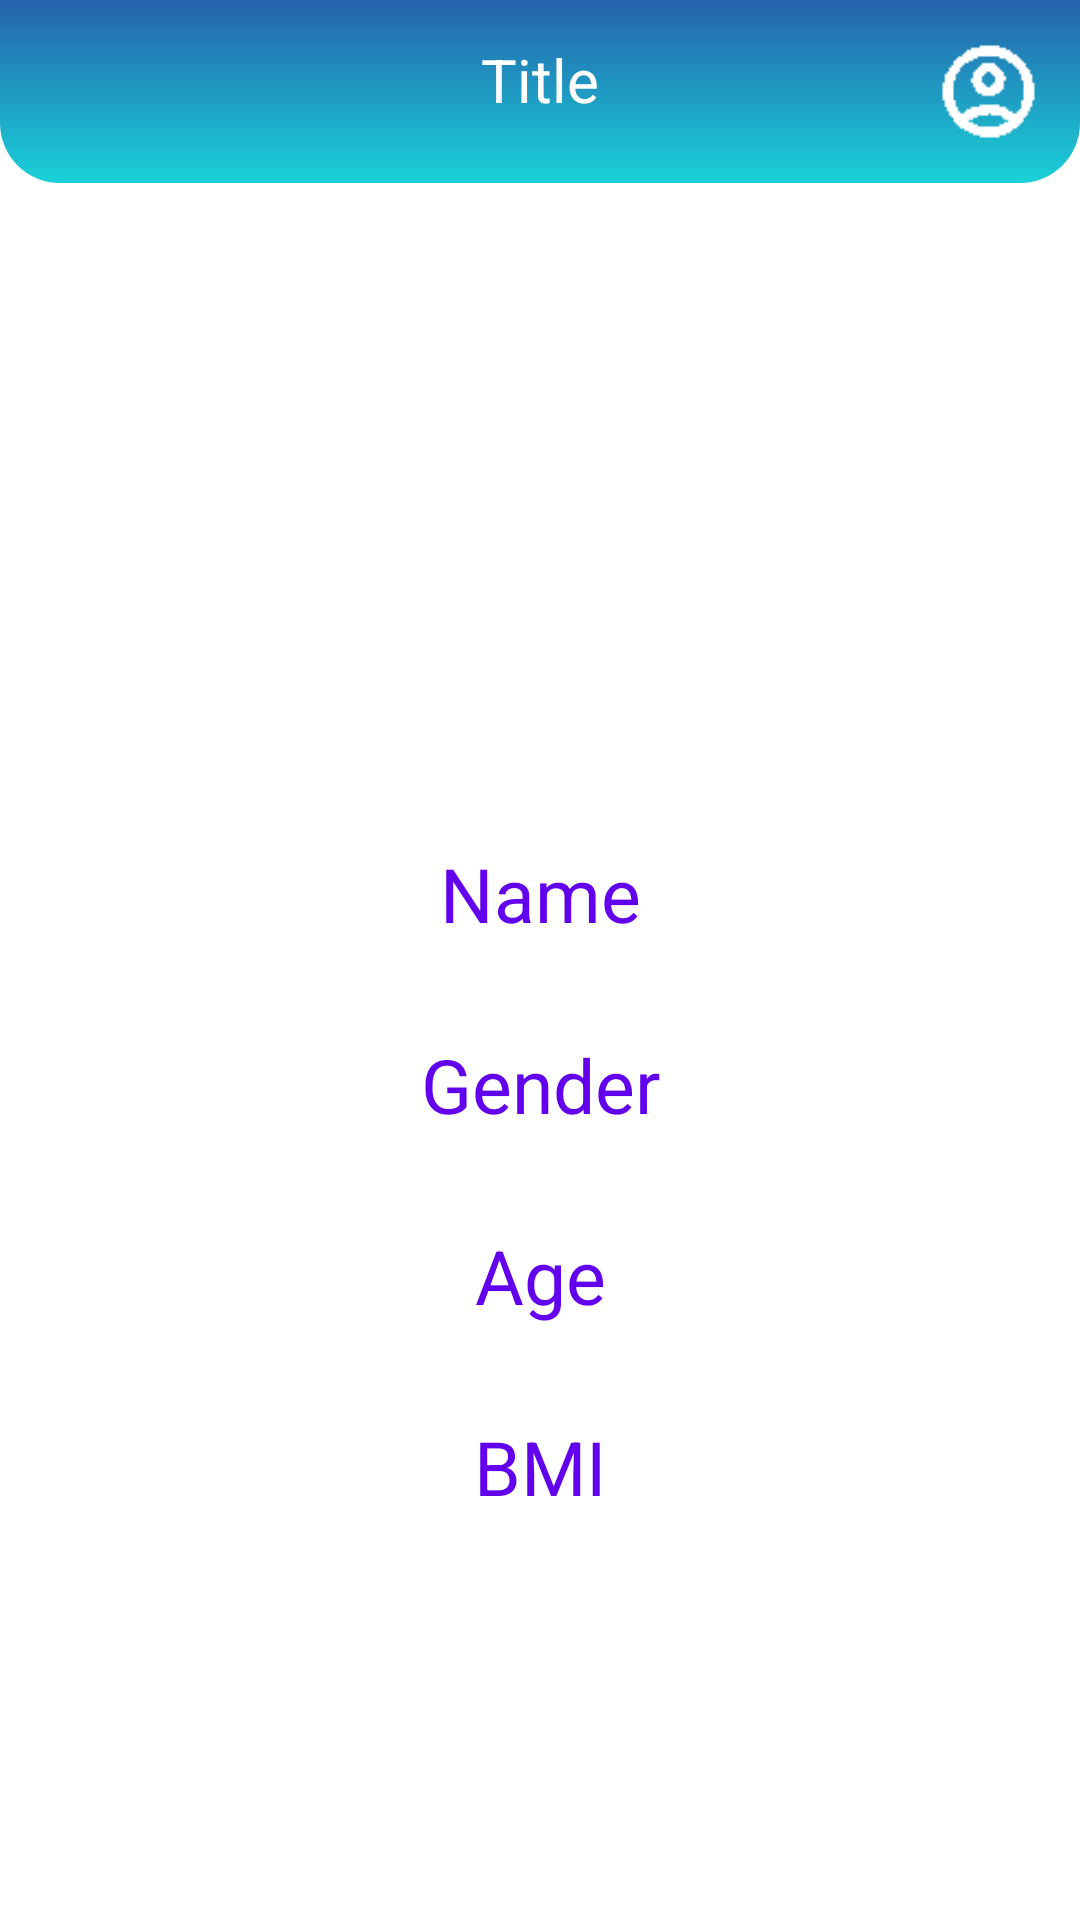

Icons on this 1080px×1920px Android screen, each with the point to tap as (x=x, y=y):
profilebtn: (x=988, y=91)
